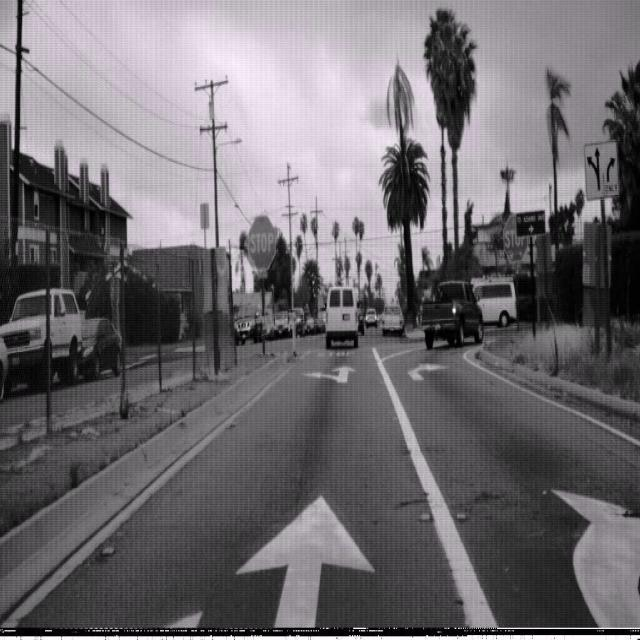stop: (248, 214, 276, 272), (502, 212, 528, 262)
